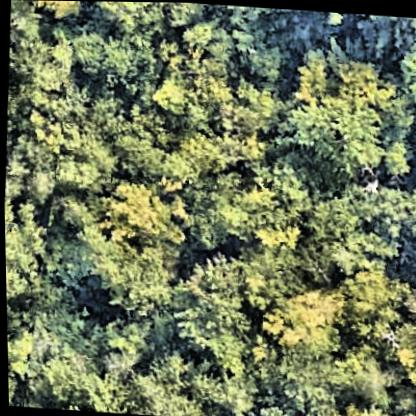tree-top: (276, 46, 401, 178), (155, 60, 276, 179), (162, 245, 258, 370), (302, 172, 416, 270), (3, 26, 82, 161), (249, 343, 355, 416), (223, 166, 309, 255), (259, 281, 345, 360), (66, 27, 159, 99), (140, 357, 252, 416), (91, 235, 172, 316), (20, 347, 106, 412), (330, 263, 403, 339), (101, 180, 179, 247), (174, 168, 238, 249), (90, 309, 141, 409), (3, 198, 49, 304), (109, 108, 177, 177), (94, 1, 209, 37), (315, 395, 393, 416), (29, 0, 85, 29)
